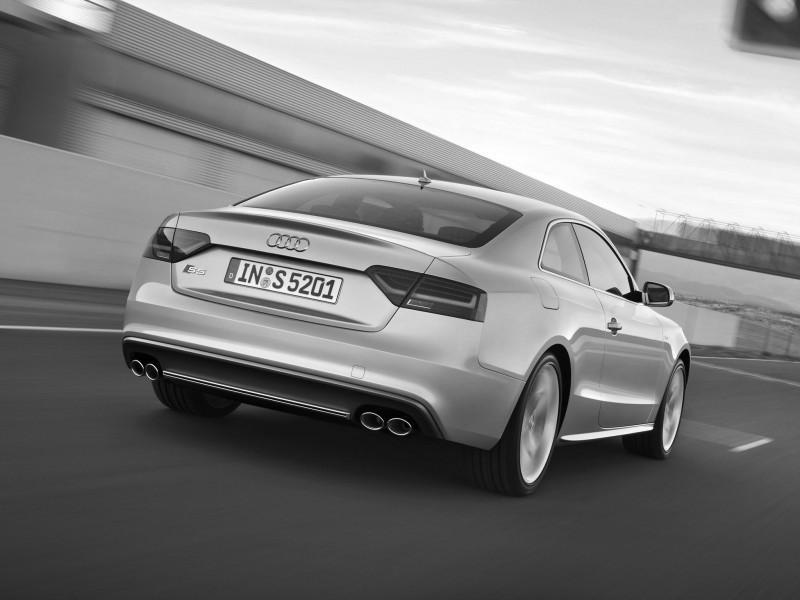car: (118, 166, 694, 490)
